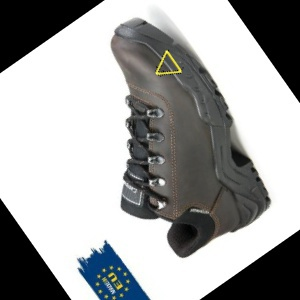triangle: (153, 49, 183, 76)
